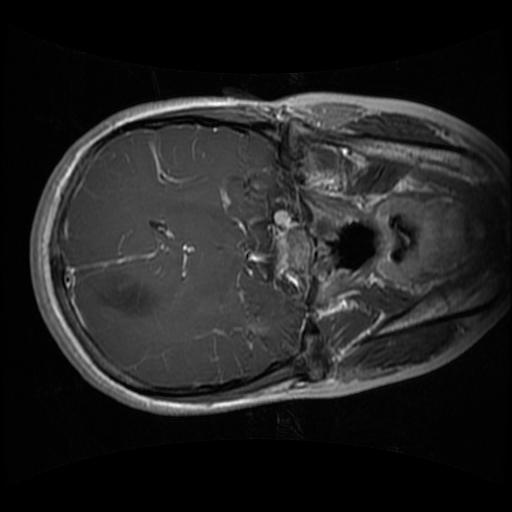glioma: (93, 272, 159, 320)
